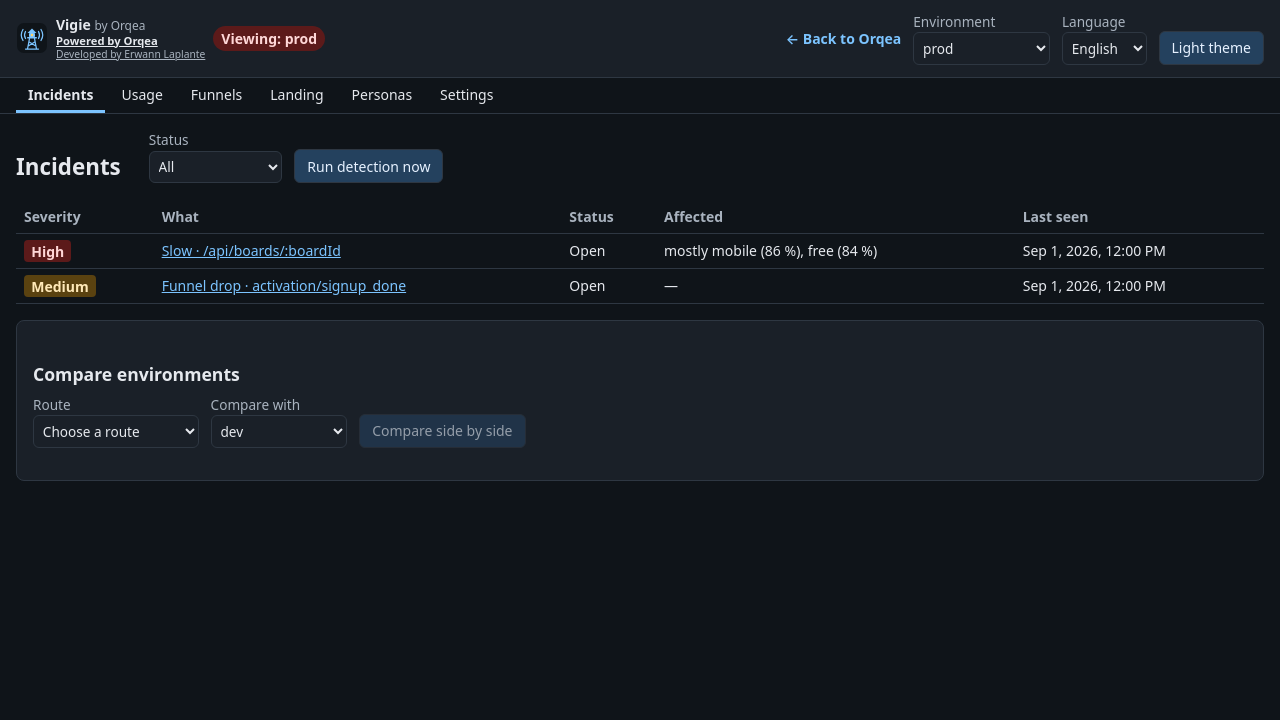
Test case: dark by default; theme and language switch and are remembered
The width and height of the screenshot is (1280, 720).
Expected: the text "Viewing: prod" is shown, [213,26,325,51]
Step 1. Click the button "Light theme" → {"x": 1211, "y": 48}, box [1158,31,1264,65]
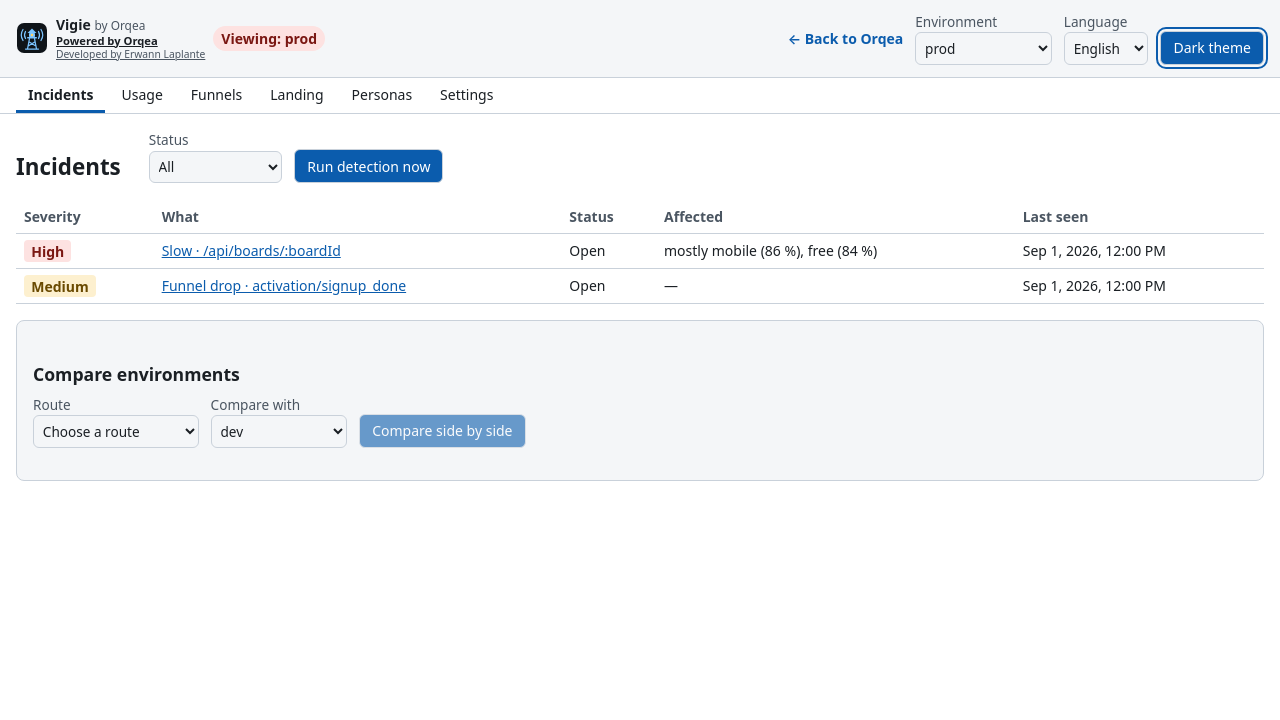
Step 2. Click the button "Dark theme" → {"x": 1212, "y": 48}, box [1160,31,1264,65]
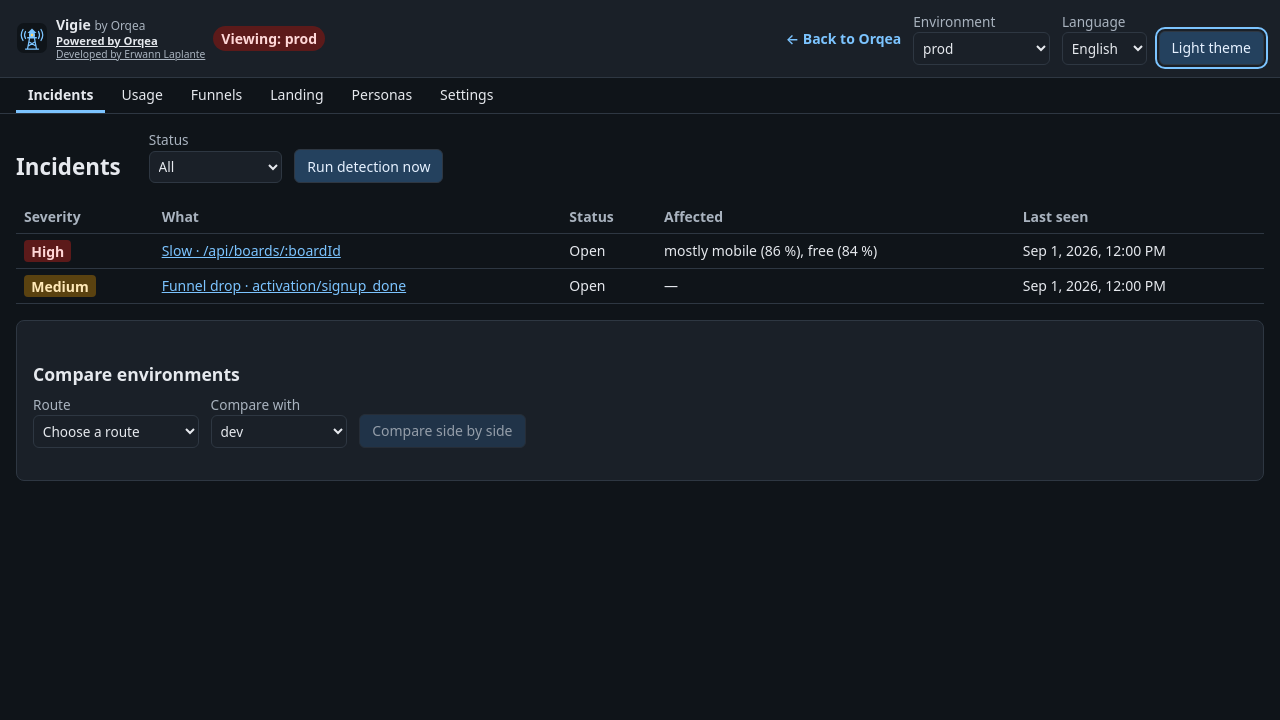
Step 3. Select "Français" in the dropdown labelled "Language" → {"x": 1104, "y": 49}, box [1062,32,1146,65]
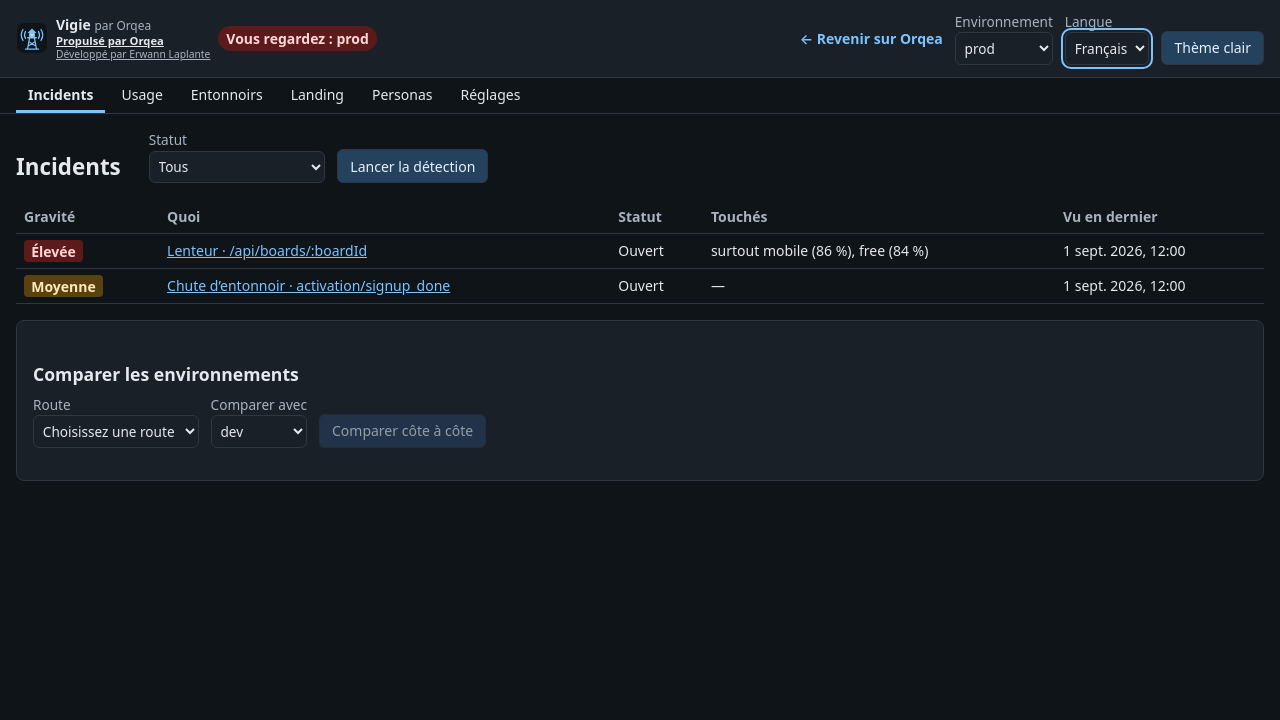
Result: the button "Thème clair" is shown at [1162,31,1264,65]
